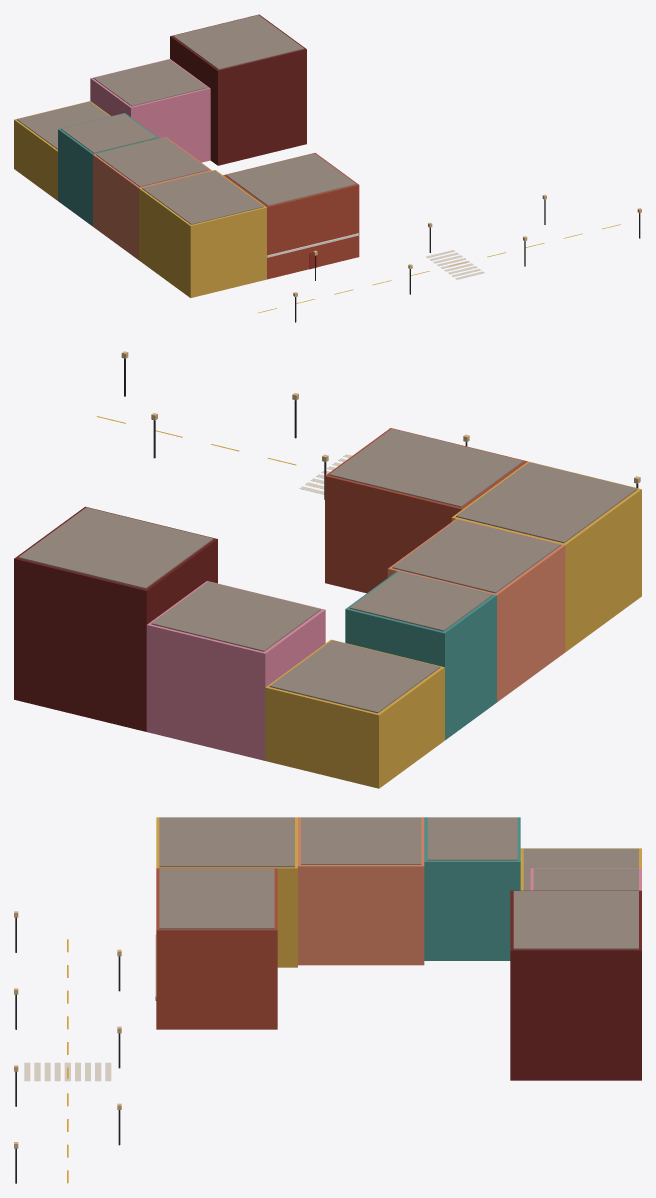
File: chunk_1_0.glb
The picture shows the model from 3 angles, top to bottom: view 1: azimuth 30°, elevation 25°; view 2: azimuth 150°, elevation 25°; view 3: azimuth 270°, elevation 25°; orthographic projection. The views are drawn at different scales.
Visible parts, largest first — view 1: chunk_1_0__building, chunk_1_0__ground, chunk_1_0__lamp; view 2: chunk_1_0__building, chunk_1_0__lamp; view 3: chunk_1_0__building, chunk_1_0__ground, chunk_1_0__lamp.
Part boxes in pixels (bbox=[...]): chunk_1_0__building: bbox=[14, 14, 359, 297]; chunk_1_0__ground: bbox=[258, 224, 620, 313]; chunk_1_0__lamp: bbox=[293, 194, 641, 322]; chunk_1_0__building: bbox=[14, 428, 641, 788]; chunk_1_0__lamp: bbox=[121, 351, 640, 499]; chunk_1_0__building: bbox=[155, 817, 641, 1080]; chunk_1_0__ground: bbox=[24, 939, 111, 1183]; chunk_1_0__lamp: bbox=[14, 911, 121, 1183].
Bounding box in the file's own units: 62.72 × 14.32 × 62.07.
